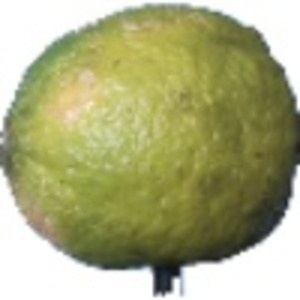limão: (1, 3, 300, 297)
